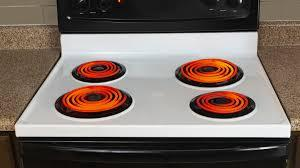controlled_fire: (178, 56, 247, 120), (74, 58, 128, 120)
